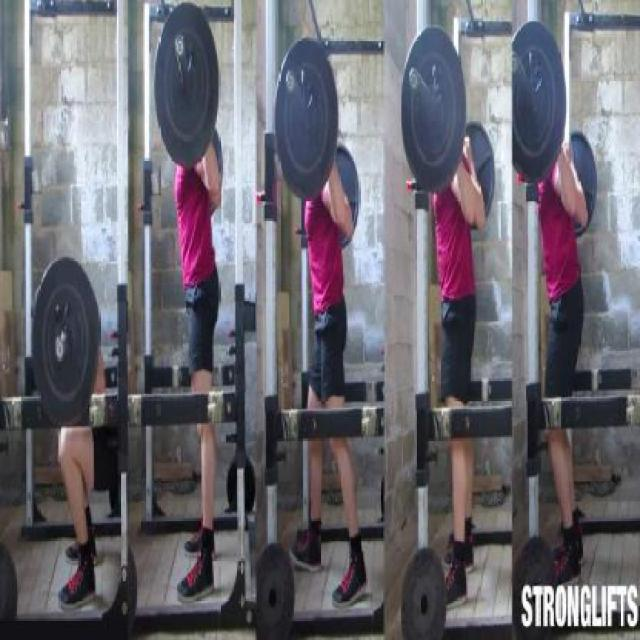Barbell: (282, 61, 298, 97), (406, 61, 422, 97), (52, 332, 66, 366), (174, 30, 186, 61)
